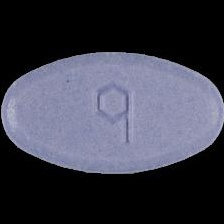0555-0886: (0, 0, 224, 224)
